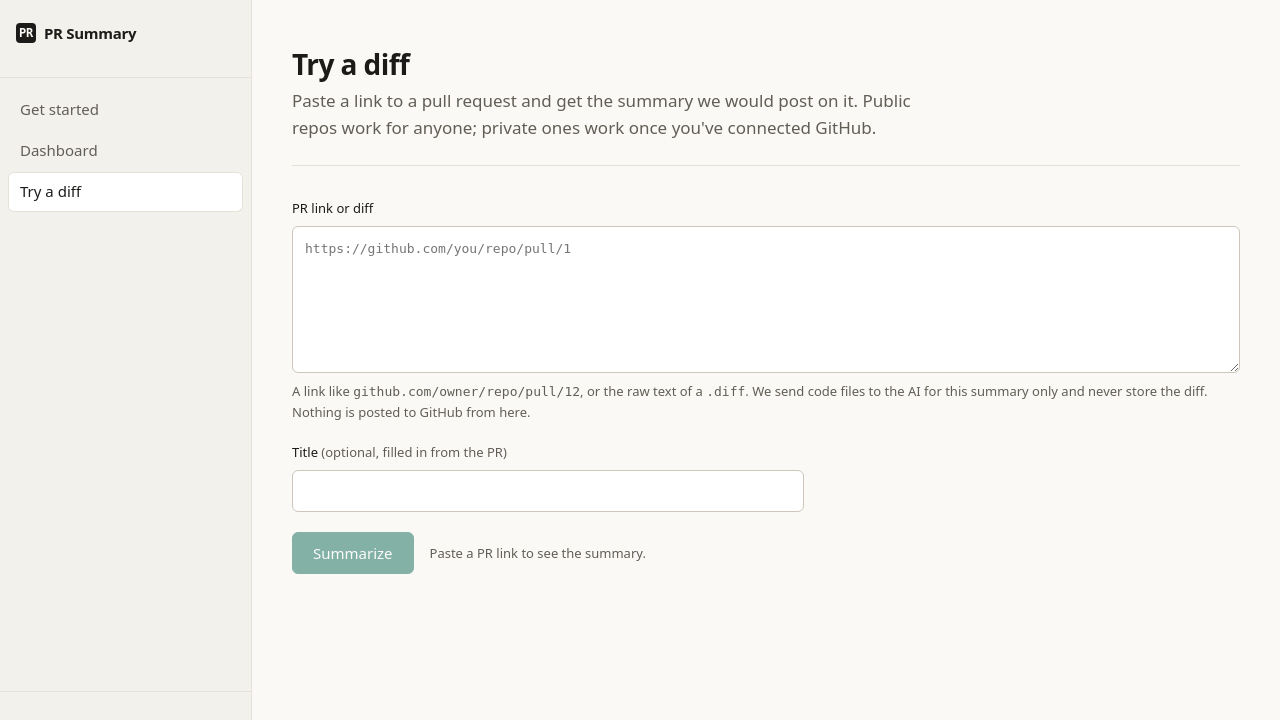
it: pasting a PR link › shows the backend's message when the PR can't be read
The image size is (1280, 720).
In the text box labelled "PR link or diff": (766, 299) [292,226,1240,373], type "https://github.com/a/private-repo/pull/3"
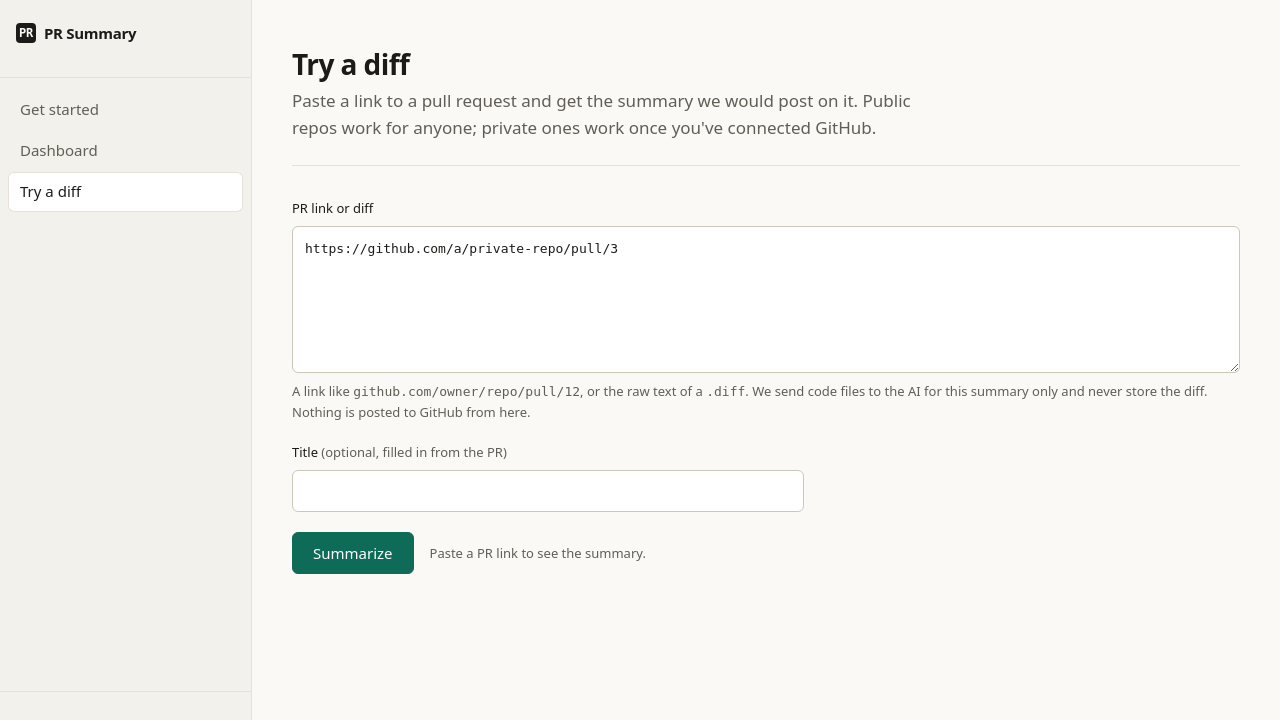
Click the button "Summarize": (353, 553) [292,532,414,574]
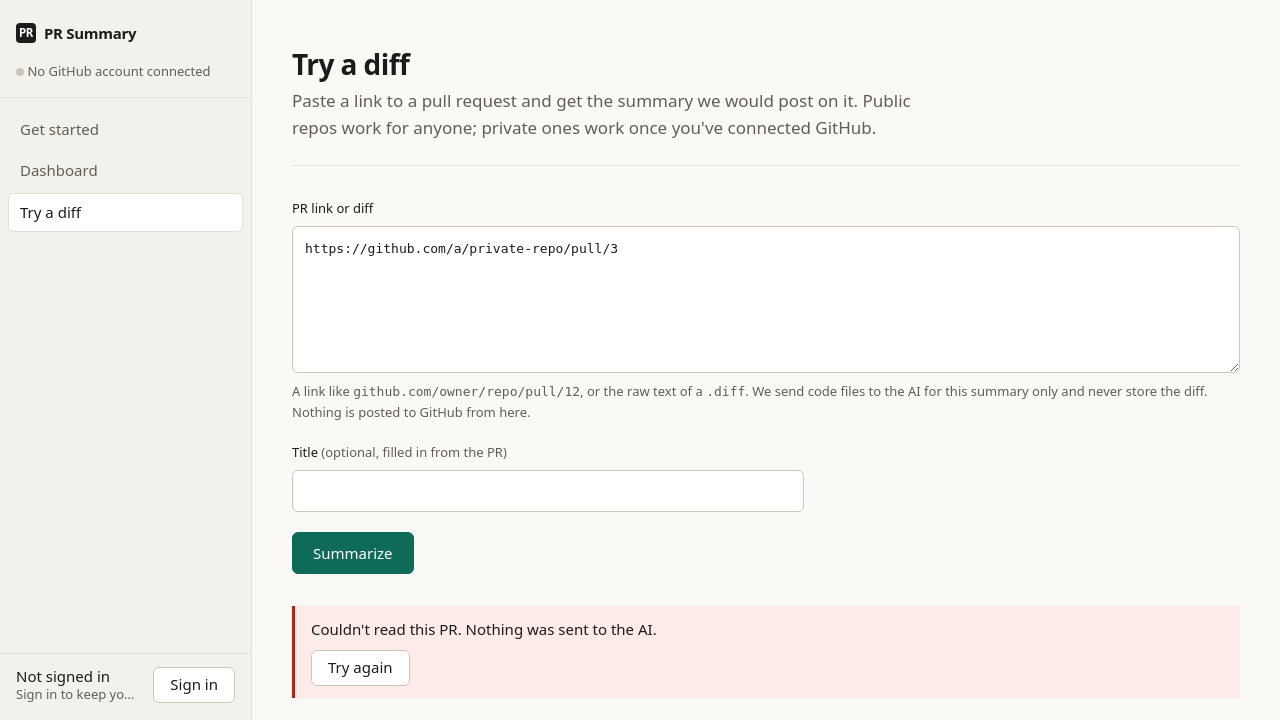
Result: the text "Couldn't read this PR. Nothing was sent to the AI." is shown at [311,618,657,642]
